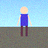person: (17, 7, 32, 36)
